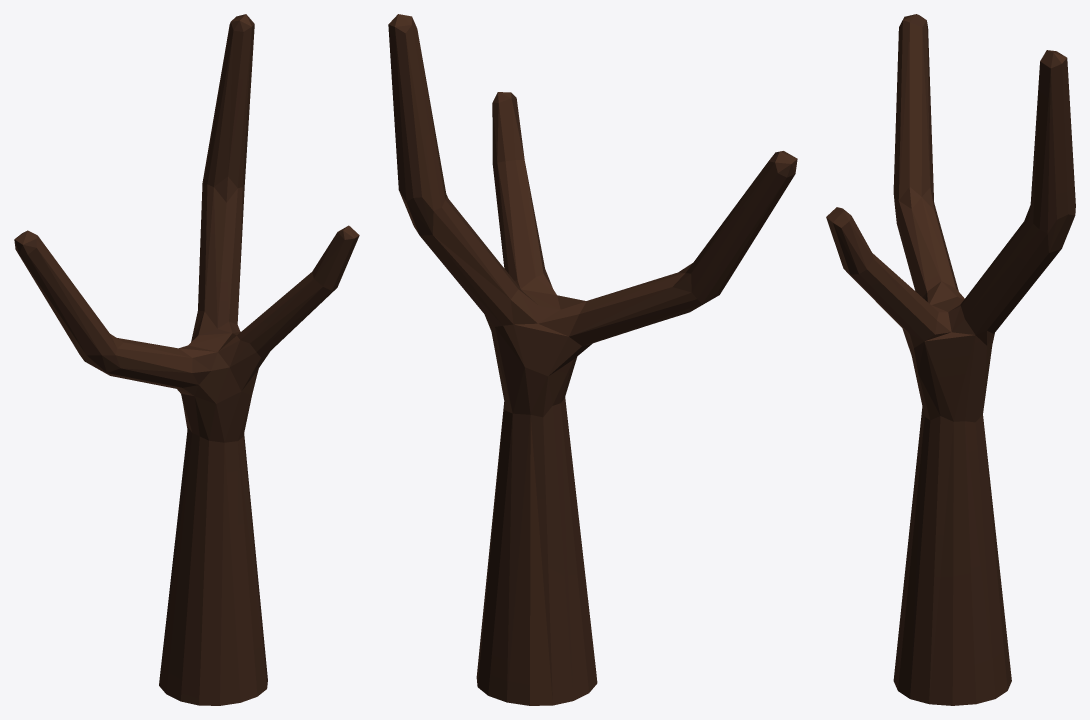
The model's file is 2Stad.fbx.
3 renders of one model, left to right at view 1: azimuth 30°, elevation 25°; view 2: azimuth 150°, elevation 25°; view 3: azimuth 270°, elevation 25°, orthographic. The views are drawn at different scales.
Visible parts, largest first — view 1: Cube.028; view 2: Cube.028; view 3: Cube.028.
Boxes of the visible parts, x1=… form: Cube.028: x1=14, y1=14, x2=359, y2=705; Cube.028: x1=388, y1=14, x2=797, y2=705; Cube.028: x1=826, y1=14, x2=1075, y2=705.
Bounding box in the file's own units: 25.95 × 49.91 × 16.87.
